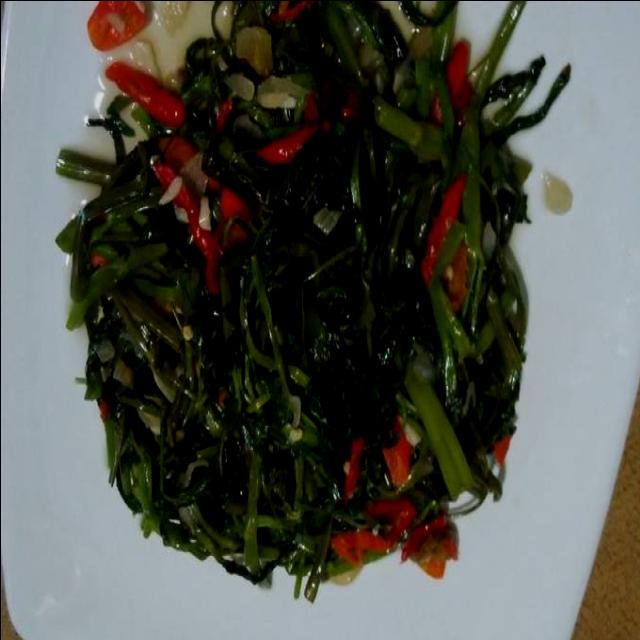tumis kangkung: (5, 0, 568, 603)
